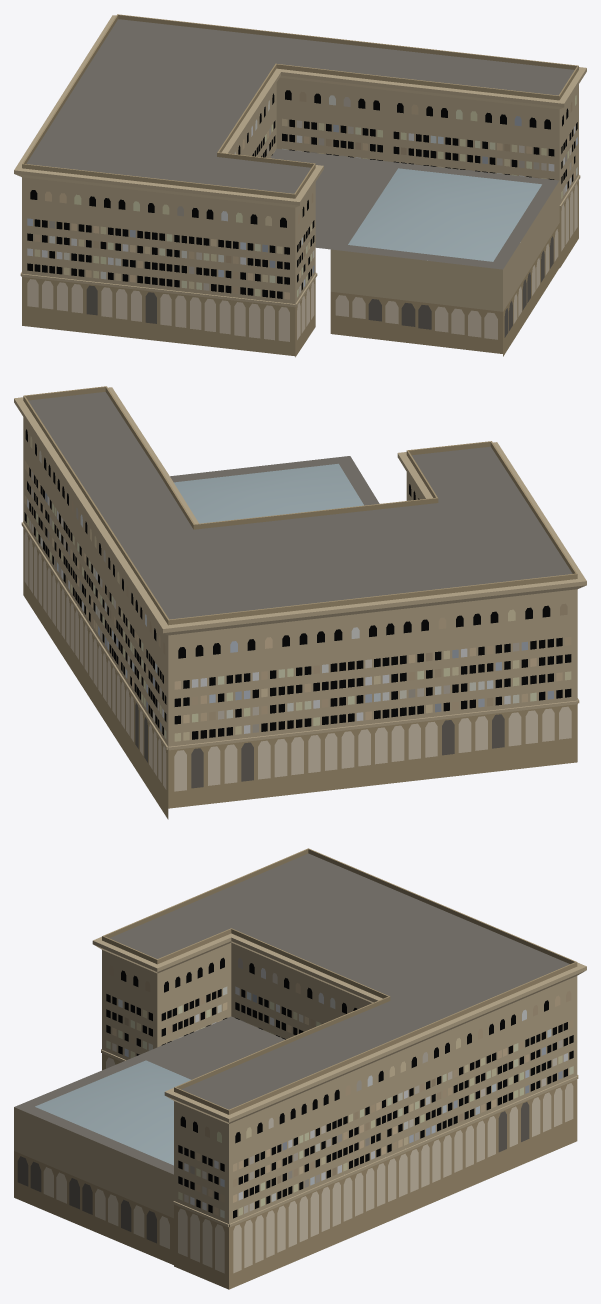
Rendered from palace_lod1.glb.
The picture shows the model from 3 angles, top to bottom: view 1: azimuth 30°, elevation 25°; view 2: azimuth 150°, elevation 25°; view 3: azimuth 270°, elevation 25°; orthographic projection. The views are drawn at different scales.
Parts seen in each view (by area): view 1: L1_stone, L1_roof, L1_win, L1_shop, L1_glassc; view 2: L1_stone, L1_roof, L1_win, L1_shop, L1_glassc; view 3: L1_stone, L1_roof, L1_win, L1_shop, L1_glassc.
Part boxes in pixels (left/top/right/bottom): L1_stone: left=14, top=14, right=586, bottom=357; L1_roof: left=26, top=19, right=574, bottom=269; L1_win: left=27, top=90, right=577, bottom=299; L1_shop: left=27, top=183, right=577, bottom=341; L1_glassc: left=348, top=168, right=541, bottom=261; L1_stone: left=14, top=386, right=586, bottom=819; L1_roof: left=28, top=392, right=572, bottom=619; L1_win: left=24, top=429, right=571, bottom=741; L1_shop: left=24, top=531, right=571, bottom=791; L1_glassc: left=174, top=463, right=363, bottom=523; L1_stone: left=14, top=848, right=586, bottom=1289; L1_roof: left=14, top=853, right=569, bottom=1174; L1_win: left=106, top=957, right=573, bottom=1218; L1_shop: left=17, top=1057, right=573, bottom=1273; L1_glassc: left=35, top=1060, right=190, bottom=1165.
Bounding box in the file's own units: 132 × 40.91 × 119.
